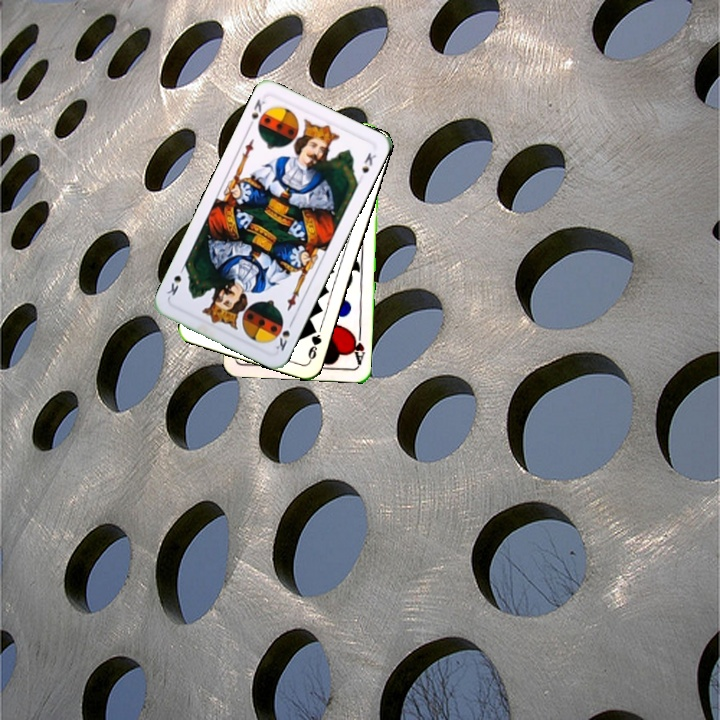G9: (304, 323, 324, 364)
HA: (347, 326, 367, 367)
SK: (271, 316, 296, 354), (244, 95, 268, 131)
